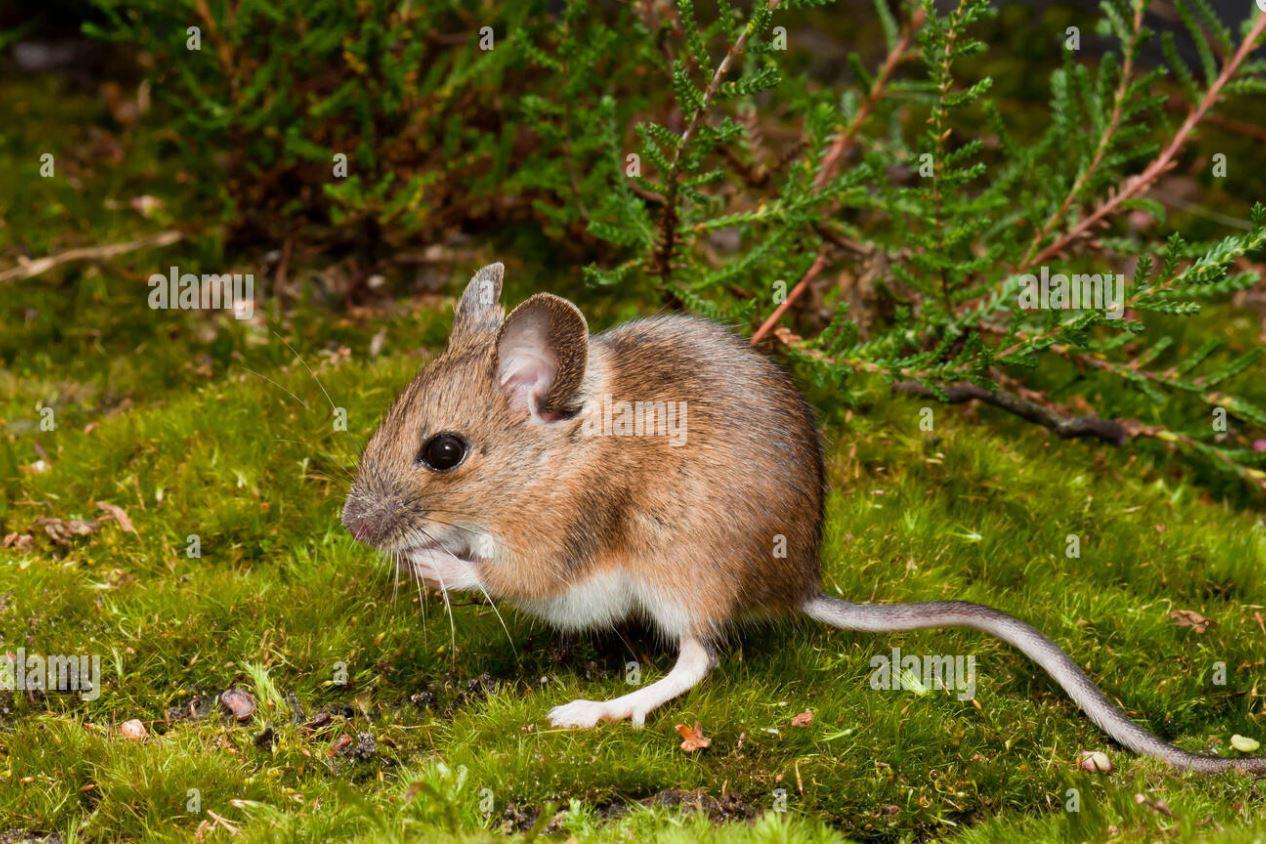rat: (341, 264, 1266, 774)
